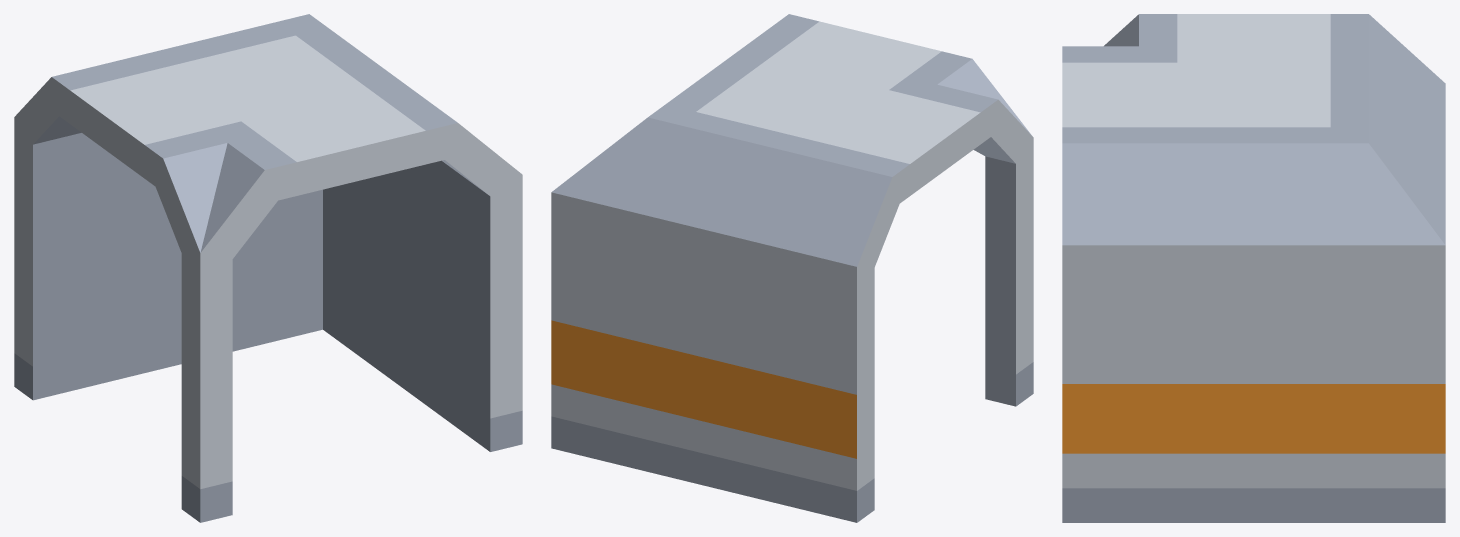
The model's file is corridor_corner.dae.
3 views of the same model, side by side, from view 1: azimuth 30°, elevation 25°; view 2: azimuth 150°, elevation 25°; view 3: azimuth 270°, elevation 25° (orthographic). The views are drawn at different scales.
Parts seen in each view (by area): view 1: corridor_corner; view 2: corridor_corner; view 3: corridor_corner.
Part boxes in pixels (x1,y1,x2,y2): corridor_corner: (14,14,522,522); corridor_corner: (551,14,1033,522); corridor_corner: (1062,14,1445,522).
Size of the model in its own units: 1 by 1 by 1.
